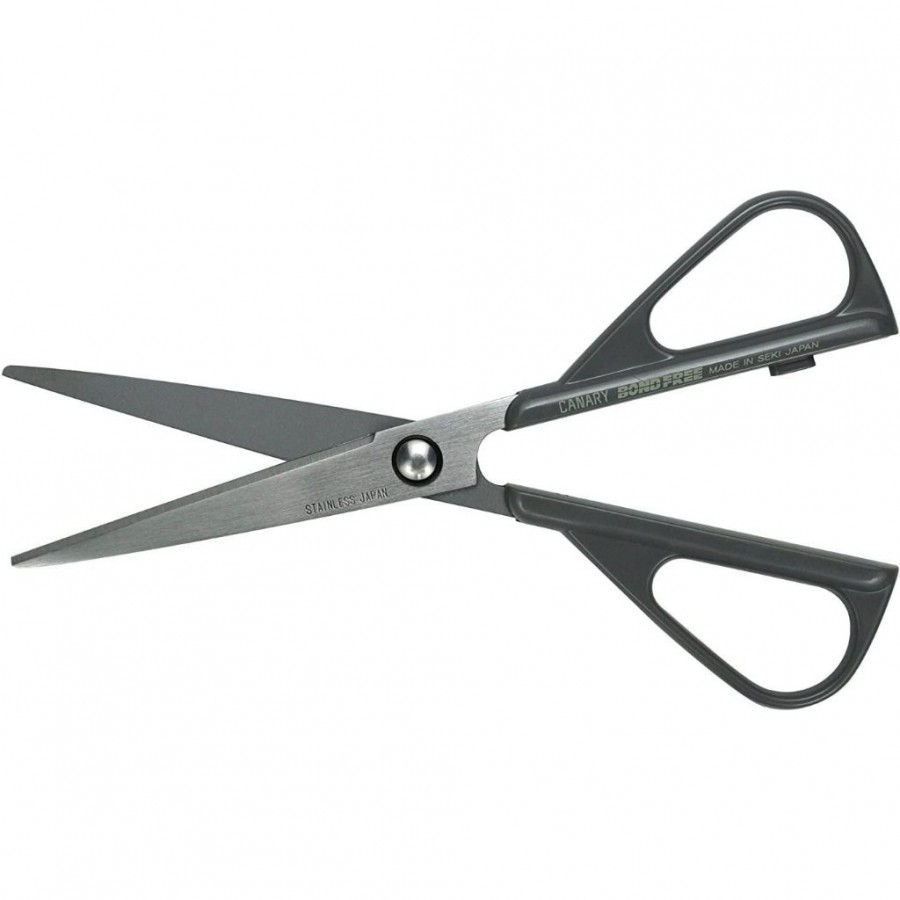scissors: (1, 188, 899, 711)
